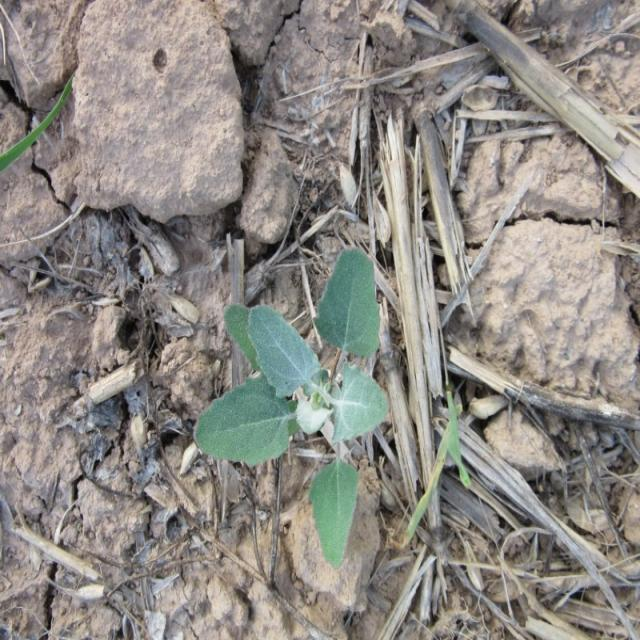ca: (199, 251, 388, 468)
